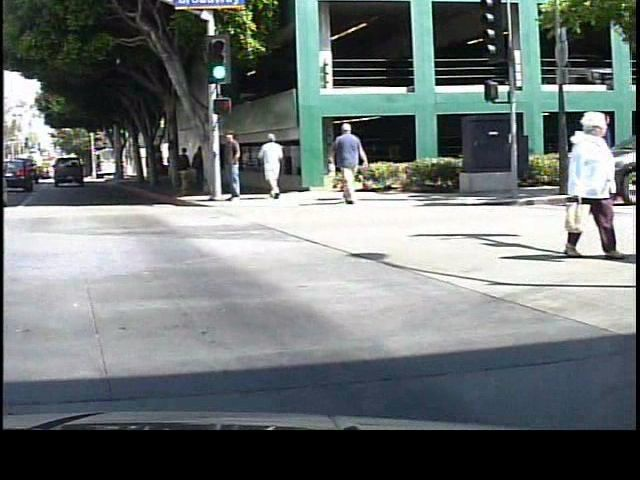person: (551, 105, 628, 265), (330, 118, 368, 203), (588, 108, 618, 191), (220, 128, 250, 209), (257, 127, 285, 201), (186, 140, 206, 193), (175, 145, 191, 191)
